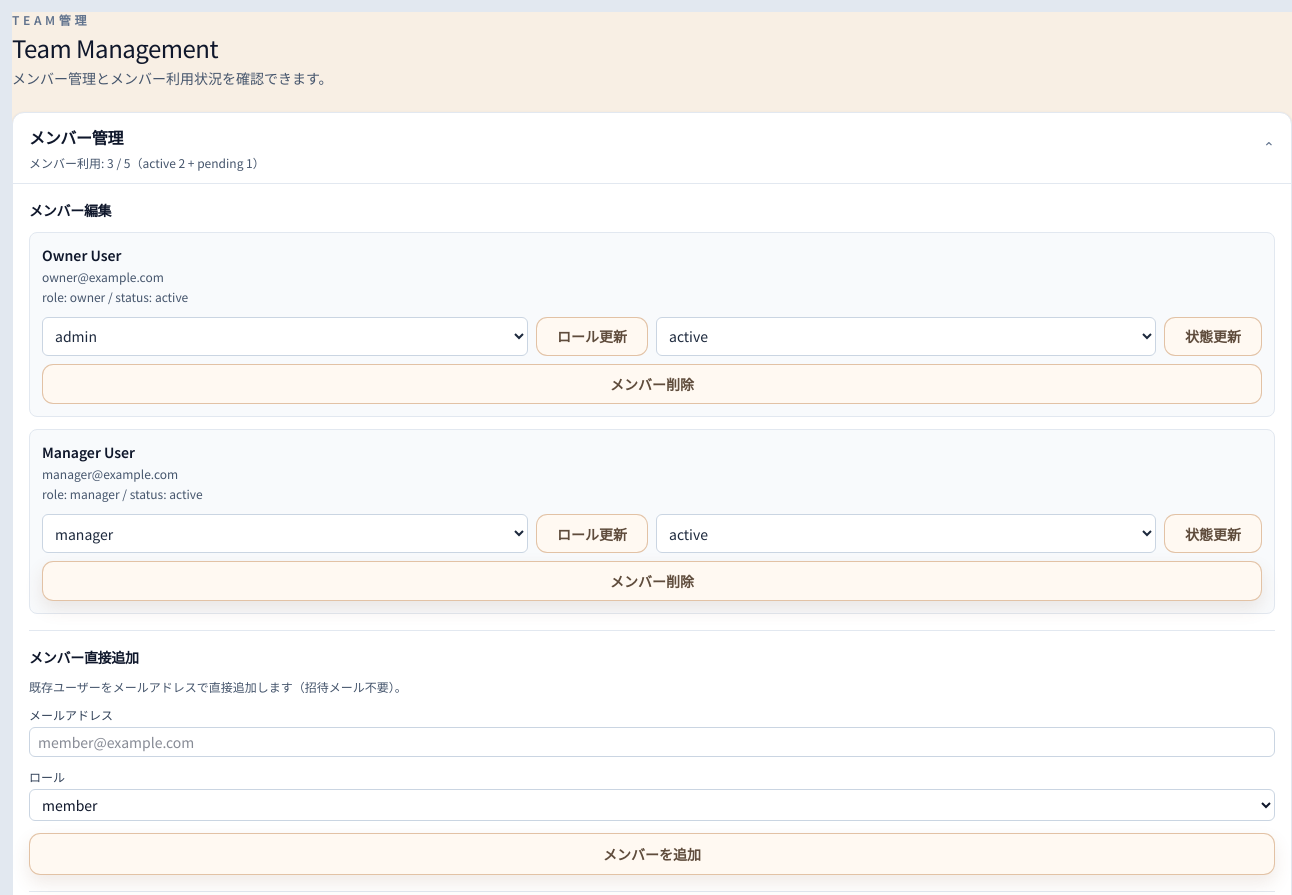
it: TeamManagementPage › updates a member role from team management section
The width and height of the screenshot is (1292, 895).
Select "admin" in the dropdown named "role-member_manager" at coordinates (285, 534), box [42,514,528,553]
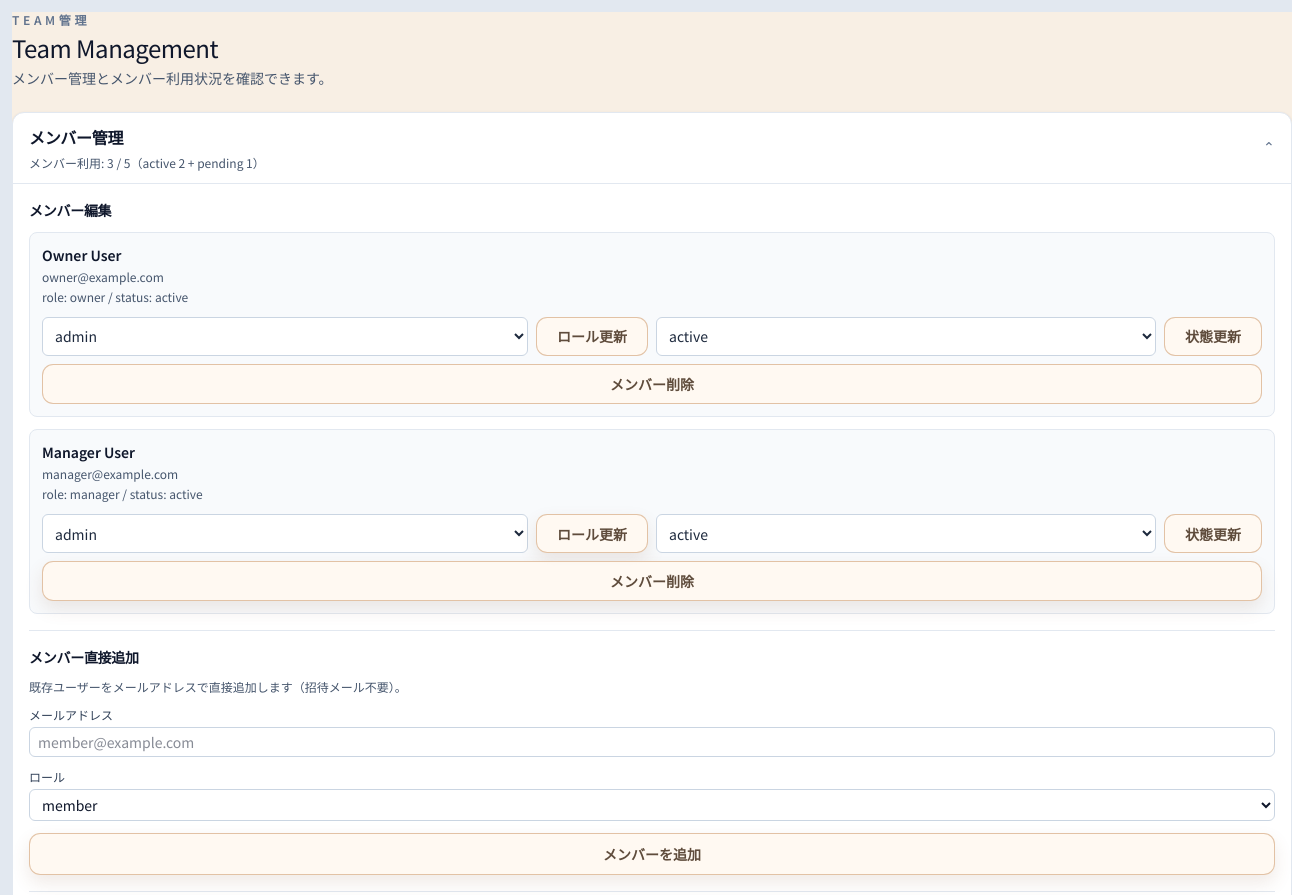
Click the 2nd button "ロール更新" at coordinates (592, 534), box [536,514,648,553]
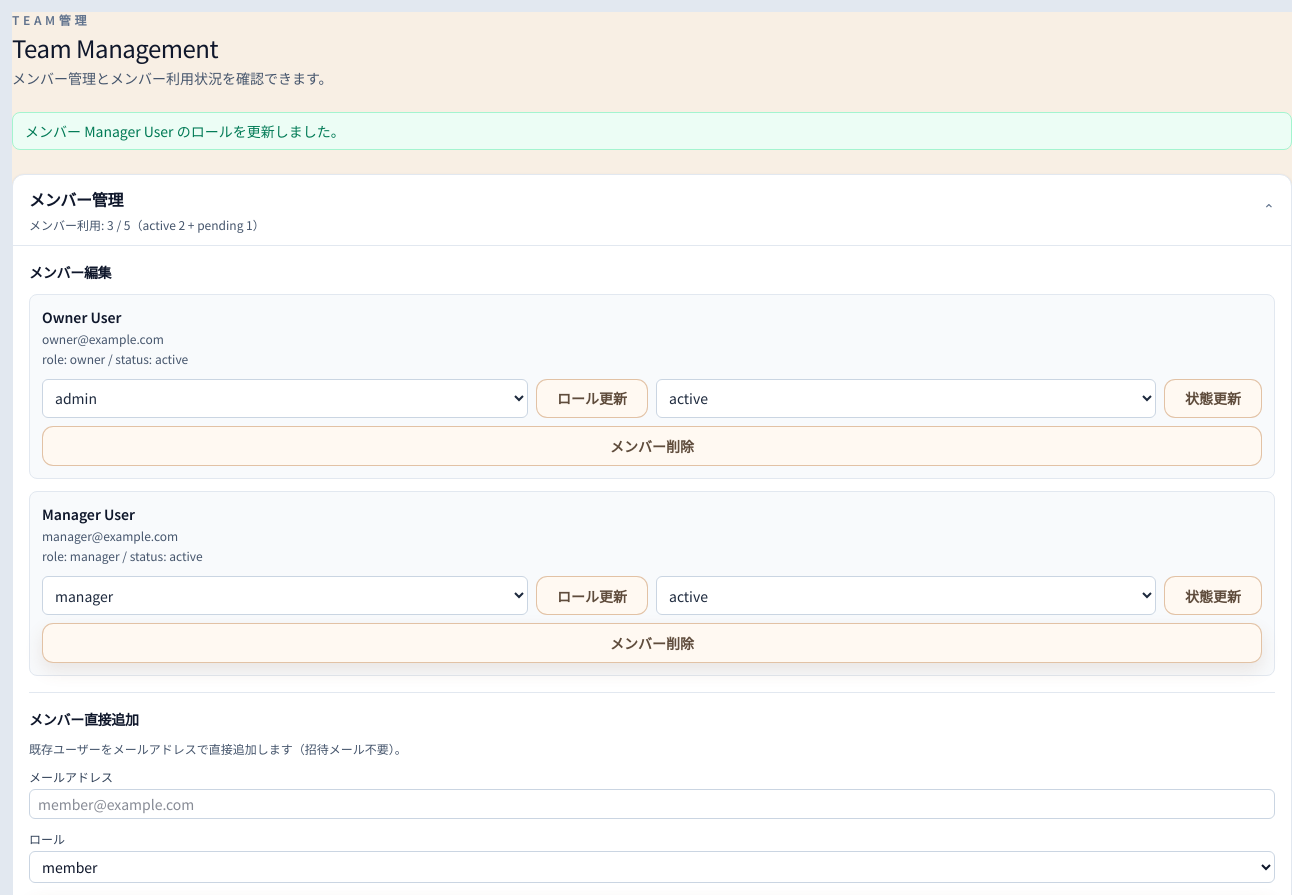
Check: the text "メンバー Manager User のロールを更新しました。" is shown, box [12,112,1291,150]
